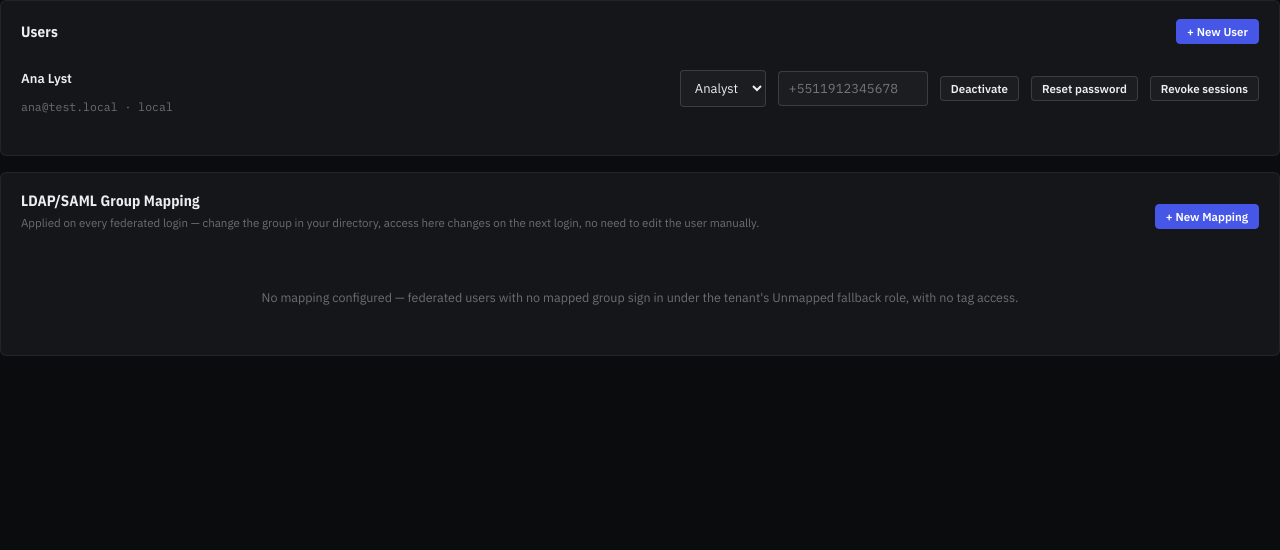
Scenario: UsersPanel › Reset password requires an inline confirm click, then posts and shows the one-time temp password
expect the text "Ana Lyst" is shown: met, box x1=21 y1=70 x2=72 y2=87
What coordinates should you click on to do the following:
click the button "Reset password"
I would click on:
 (1084, 88)
Its box is x1=1031 y1=76 x2=1138 y2=101.
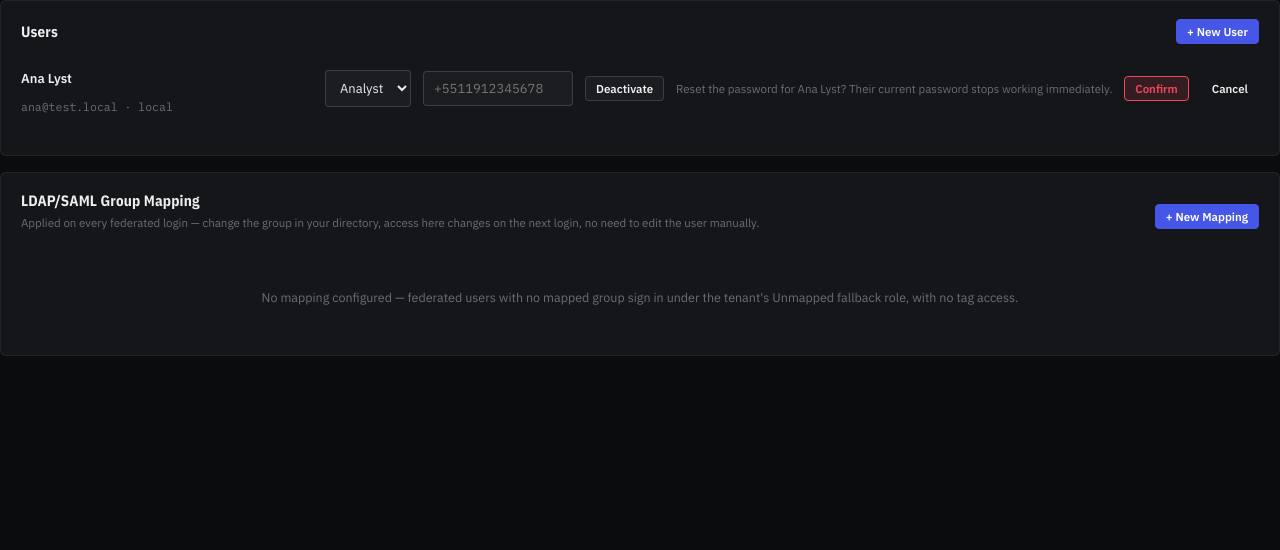
What coordinates should you click on to do the following:
click the button "Confirm"
I would click on:
 (1157, 88)
Its box is x1=1124 y1=76 x2=1189 y2=101.
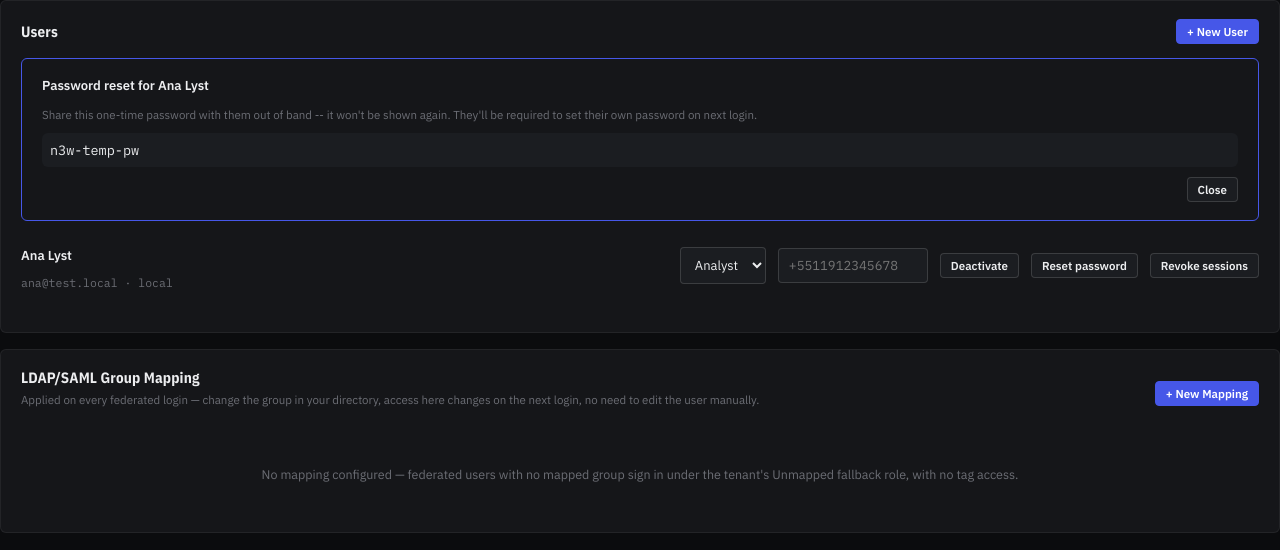
expect the text "Password reset for Ana Lyst" is shown: met, box x1=42 y1=77 x2=209 y2=94
expect the text "n3w-temp-pw" is shown: met, box x1=42 y1=133 x2=1238 y2=167
